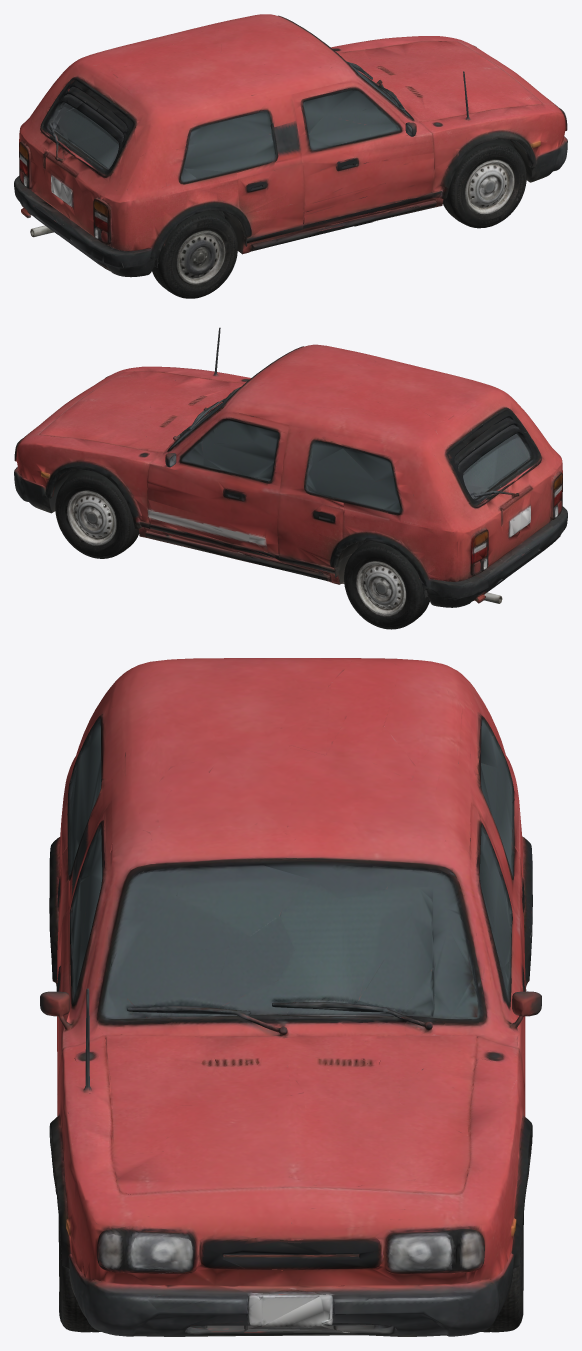
File: cuiabano__01a16944.glb
3 renders of one model, top to bottom at view 1: azimuth 30°, elevation 25°; view 2: azimuth 150°, elevation 25°; view 3: azimuth 270°, elevation 25°, orthographic. The views are drawn at different scales.
Visible parts, largest first — view 1: cuiabano__01a16944; view 2: cuiabano__01a16944; view 3: cuiabano__01a16944.
Part boxes in pixels (bbox=[...]): cuiabano__01a16944: bbox=[14, 14, 567, 298]; cuiabano__01a16944: bbox=[14, 327, 567, 629]; cuiabano__01a16944: bbox=[40, 658, 541, 1336].
Bounding box in the file's own units: 3.9 × 1.47 × 1.8.
Materials: 1 (1 with a texture image).
